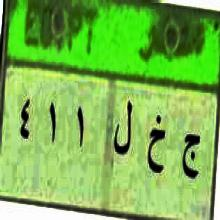1: (43, 92, 61, 160), (74, 100, 89, 158)
4: (18, 94, 34, 152)
jeem: (180, 120, 202, 196)
khaa: (146, 115, 168, 190)
laam: (111, 99, 134, 166)
